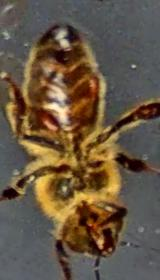varroa_mite: (35, 96, 65, 138), (79, 70, 111, 104)
